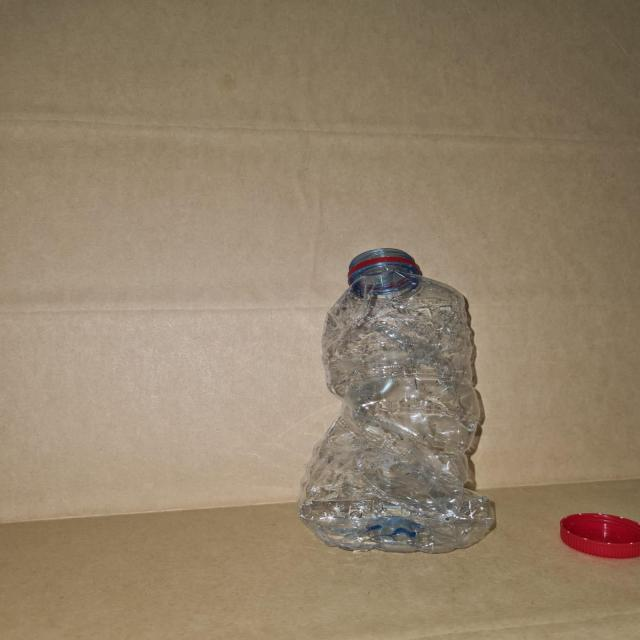bottle: (290, 241, 512, 568)
